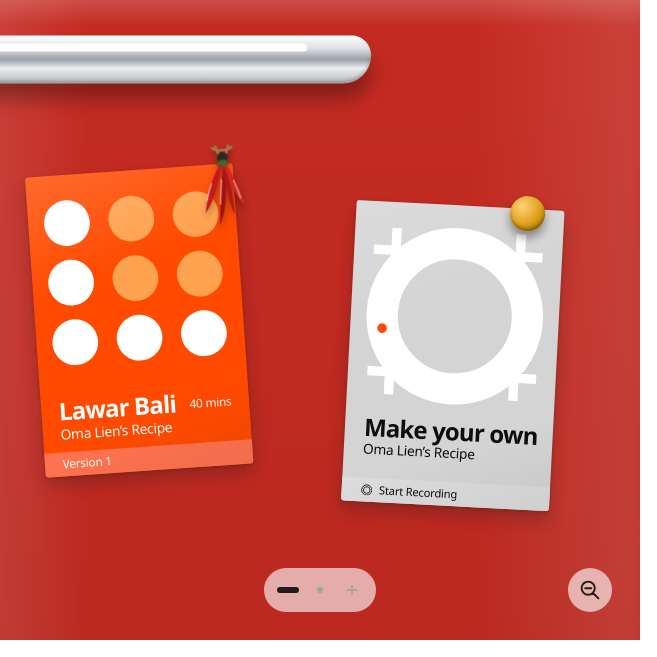
Test: FridgeScreen › swipes to the next fridge: zoom out, slide, then zoom into its door
This screenshot has width=657, height=657.
Press the mouse on the element named "Fridge cookbooks" at (320, 320), box [0,0,640,640]
Wait 2550 ms
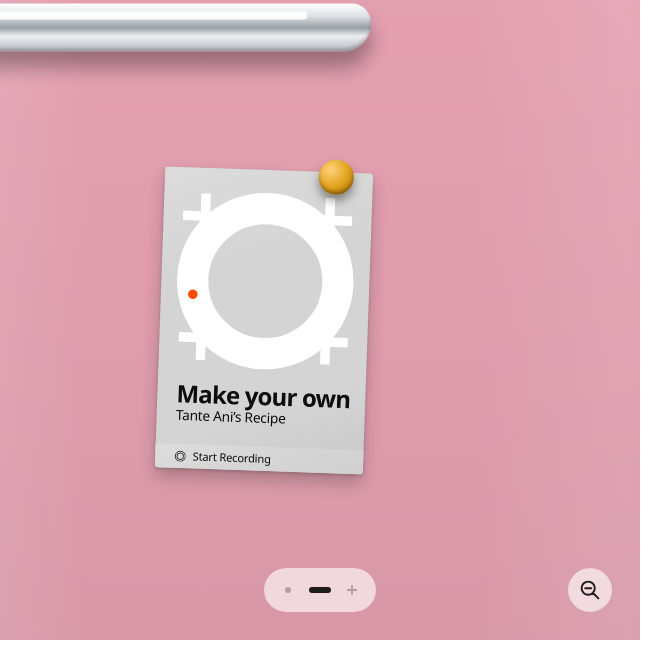
Check: the button with aria-label "Make your own recipe" is enabled, box [155,166,373,474]
